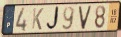4: (15, 6, 29, 33)
8: (94, 4, 107, 29)
9: (61, 6, 77, 31)
J: (45, 6, 61, 32)
K: (30, 7, 44, 31)
V: (78, 5, 93, 31)
